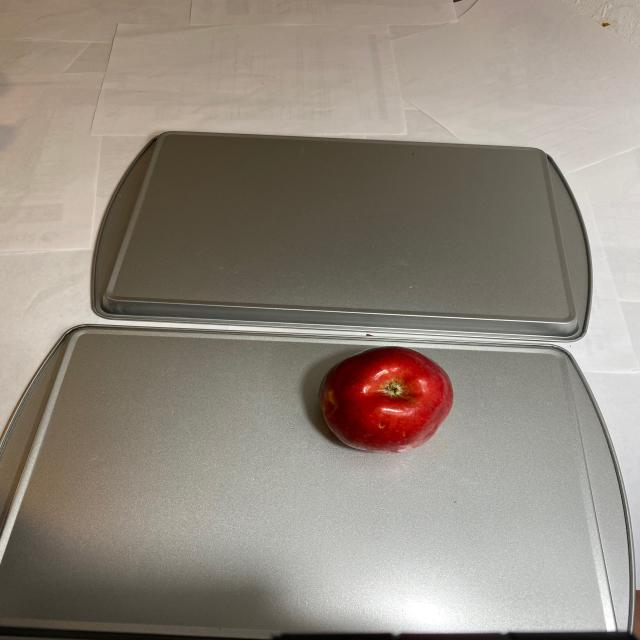apple: (319, 346, 452, 455)
